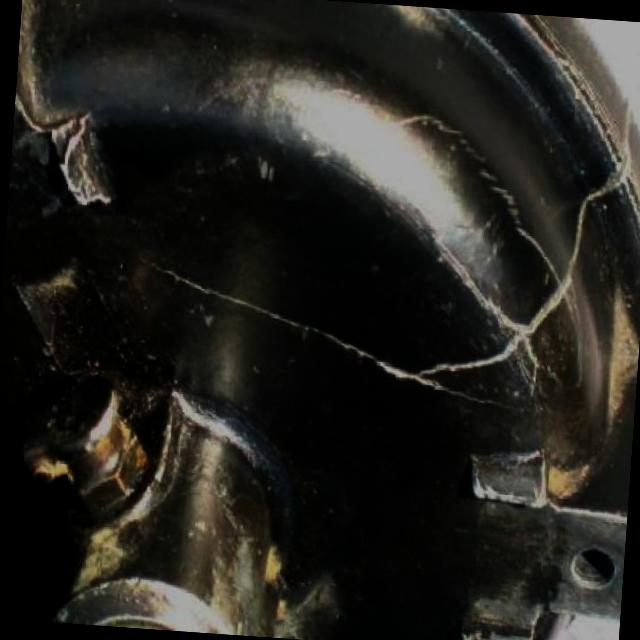crack: (163, 269, 311, 328), (418, 326, 522, 381), (306, 328, 414, 378), (557, 196, 586, 283), (522, 280, 562, 338)
